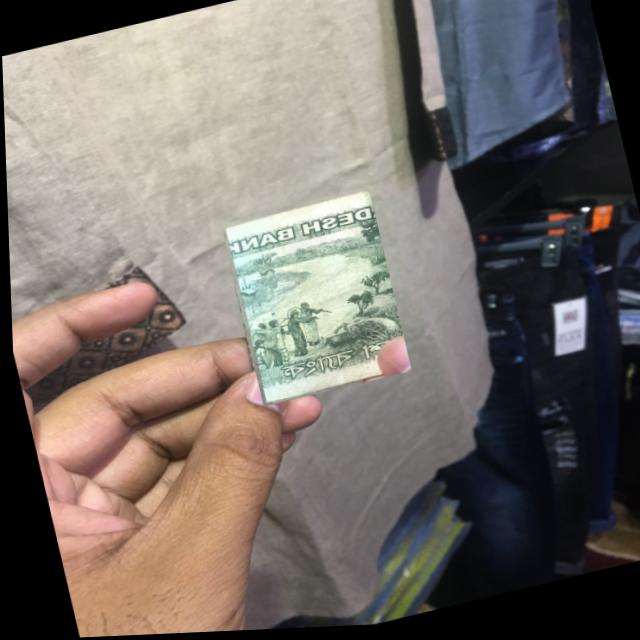Taka: (218, 188, 410, 410)
